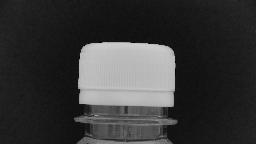Loose Cap: (72, 85, 180, 127)
